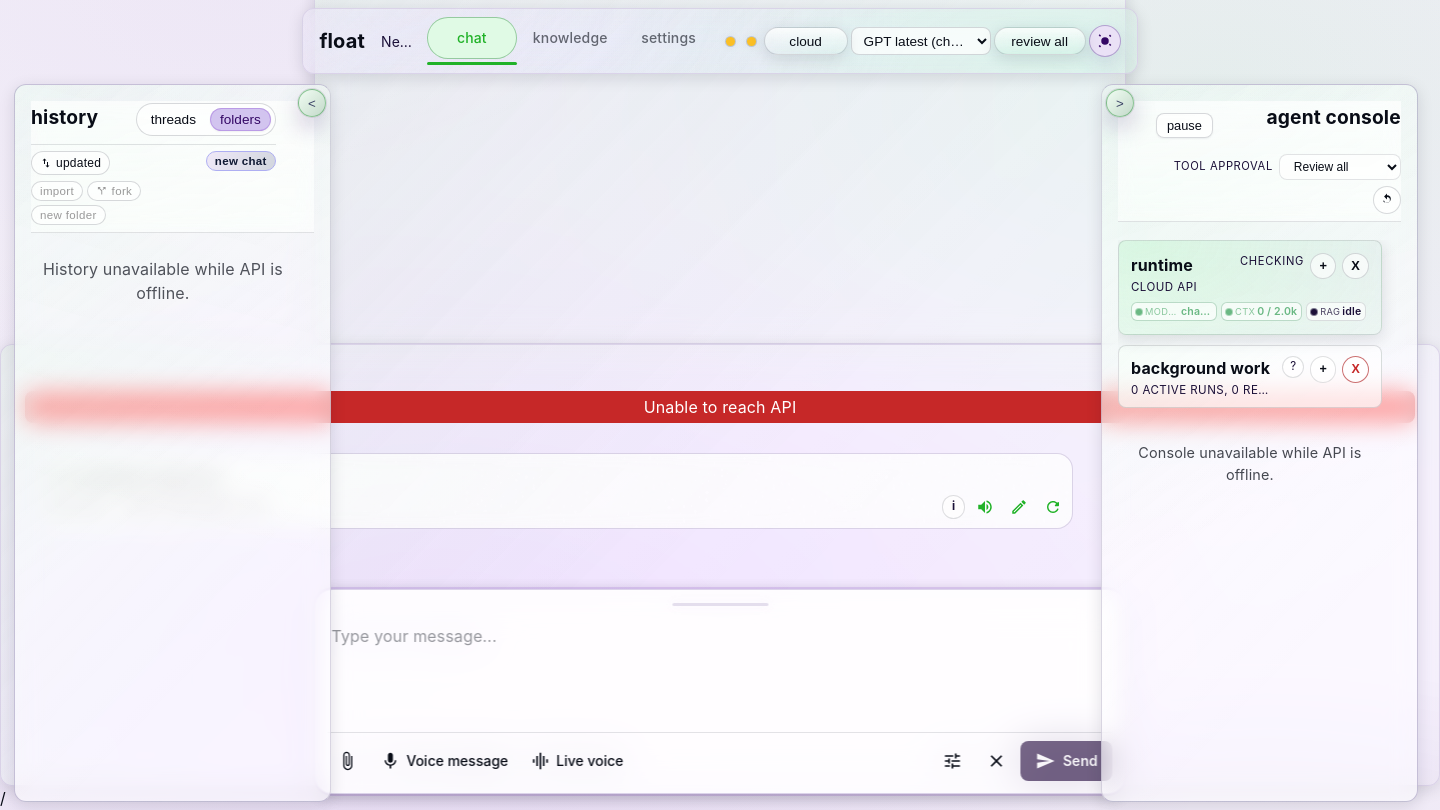
it: Chat › shows verified model resolution and lifecycle timing in message metadata (provider usage)
(page scrolled)
Click the button named "Show message metadata": (954, 507) [942, 495, 965, 519]
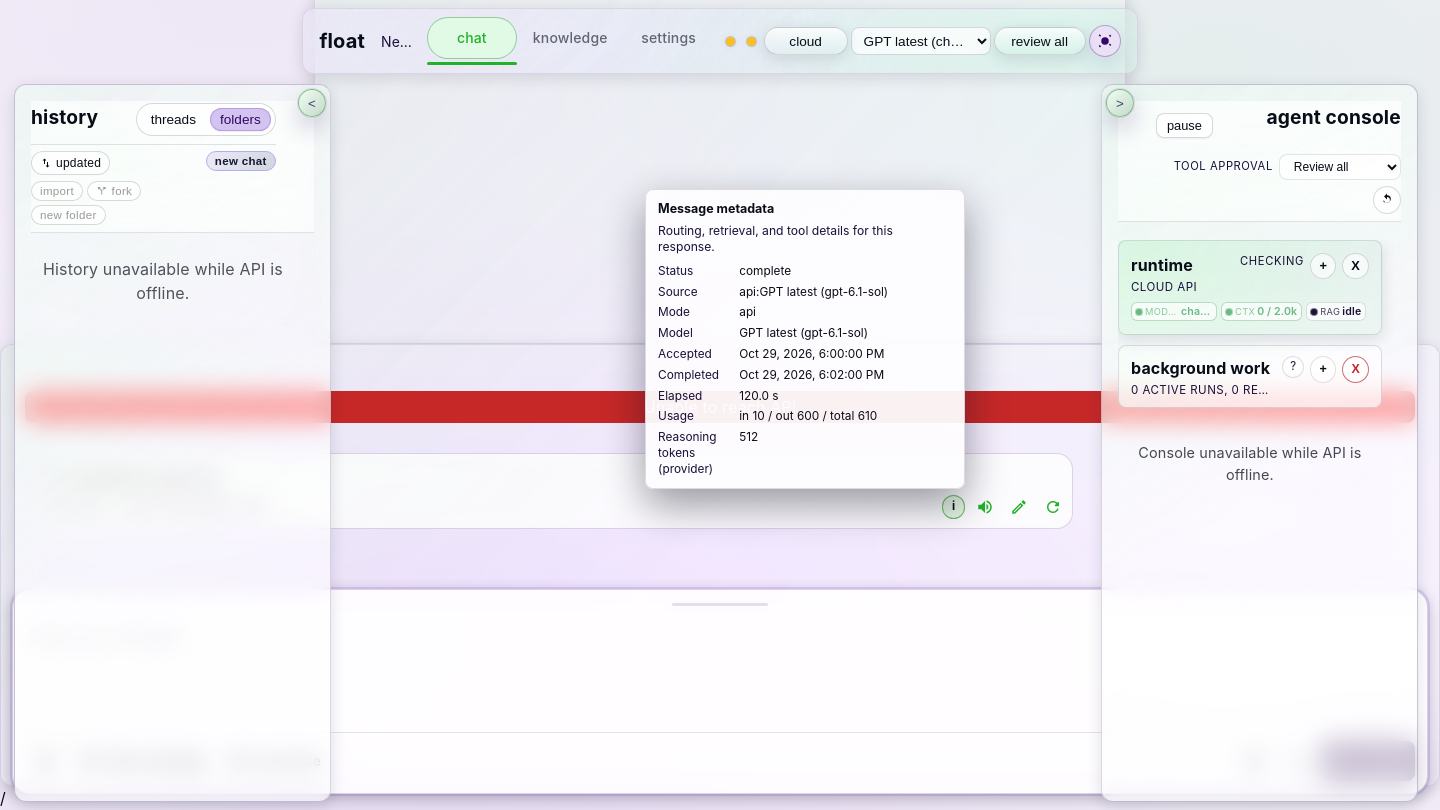
Expected: the text "GPT latest (gpt-6.1-sol)" is shown, [739, 326, 868, 340]
Expected: the text "Accepted" is shown, [658, 347, 712, 361]
Expected: the text "Completed" is shown, [658, 368, 719, 382]
